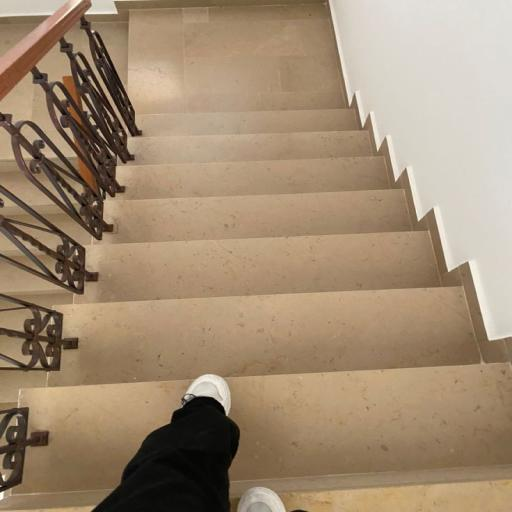laptop: (92, 375, 239, 511)
stairs: (21, 110, 511, 511)
